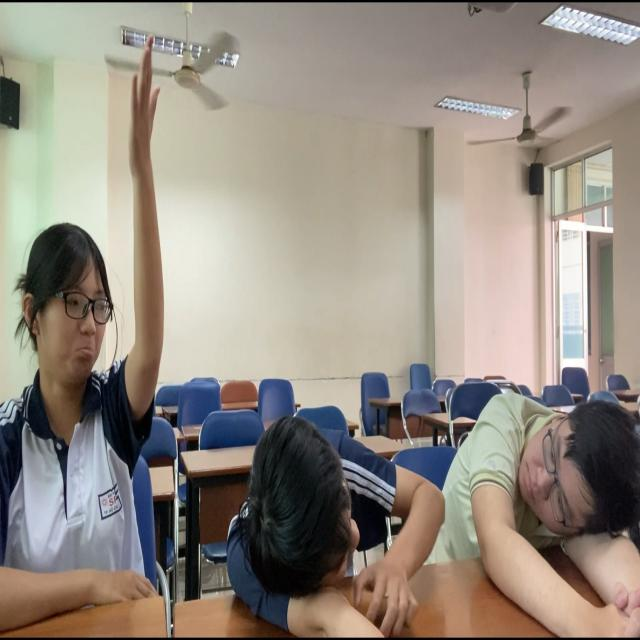raise_hand: (1, 29, 174, 640)
sleep: (217, 402, 448, 640), (446, 377, 640, 640)
